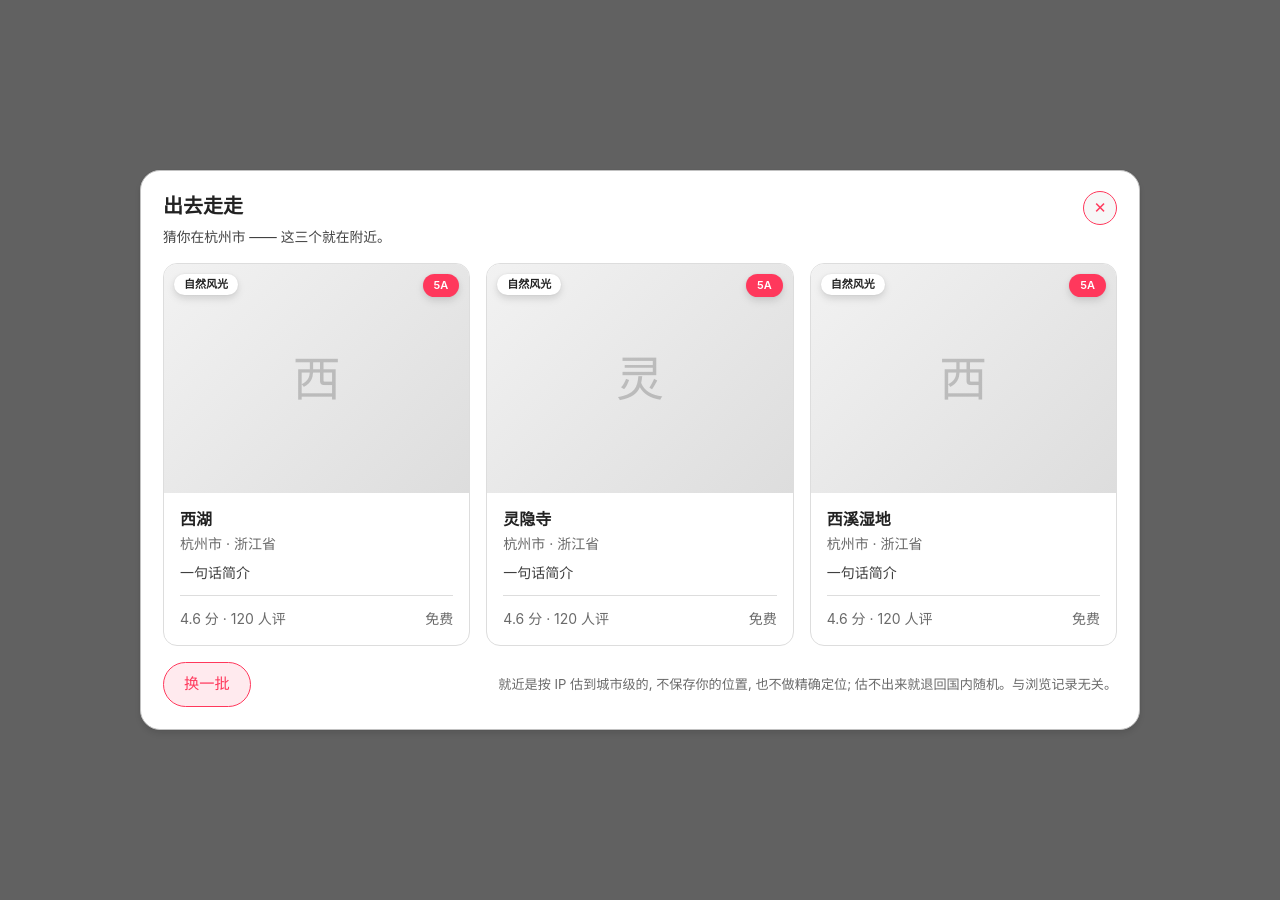
AttractionPicks › 「换一批」重新抽一次, 内容与位置说明跟着换
Check: the heading "西湖" is shown, box x1=180 y1=509 x2=212 y2=529
Click the button "换一批".
click(207, 685)  # box x1=163 y1=662 x2=251 y2=707
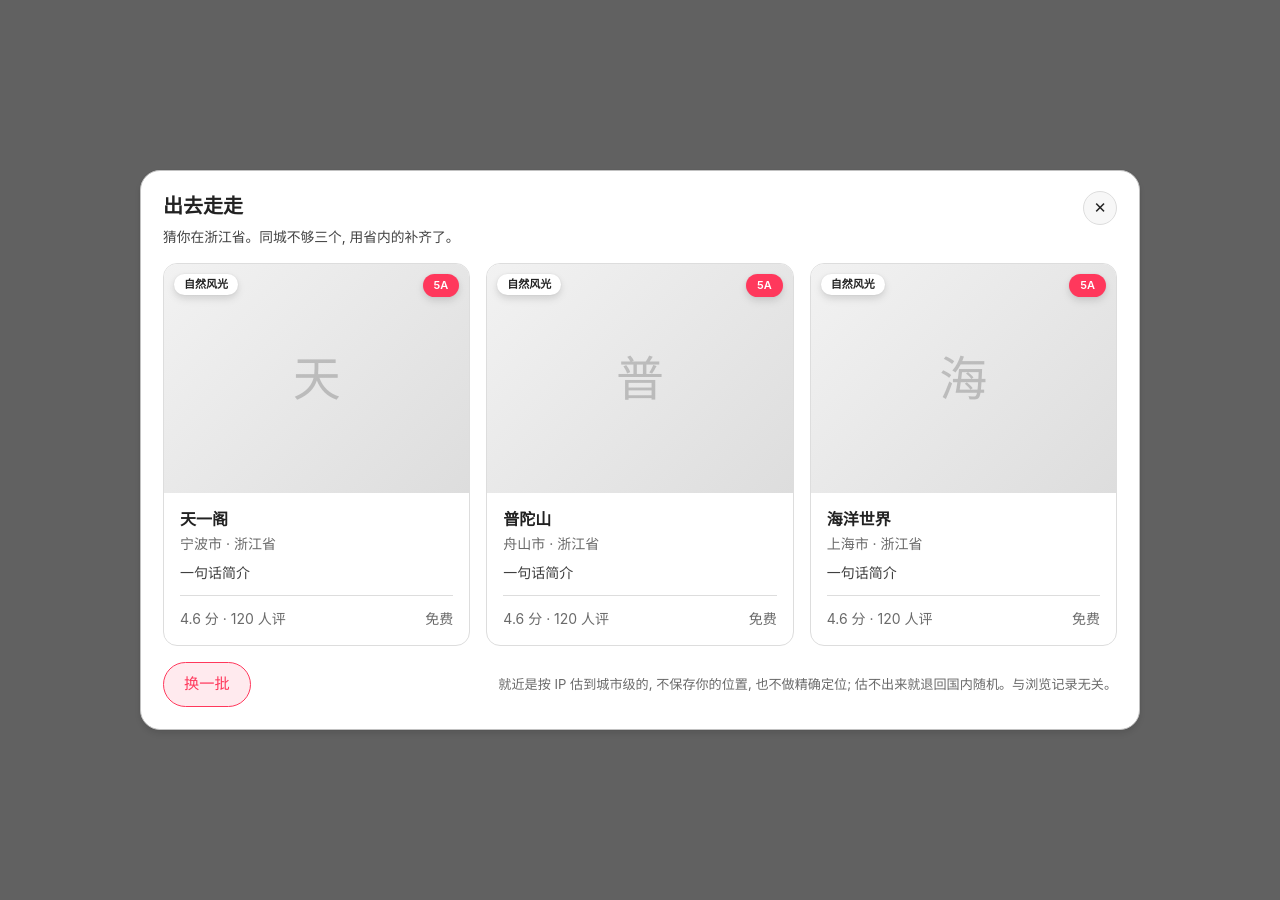
Check: the heading "天一阁" is shown, box x1=180 y1=509 x2=228 y2=529
Check: the link "西湖" is gone
Check: the text "猜你在浙江省。同城不够三个, 用省内的补齐了。" is shown, box x1=163 y1=227 x2=460 y2=247
